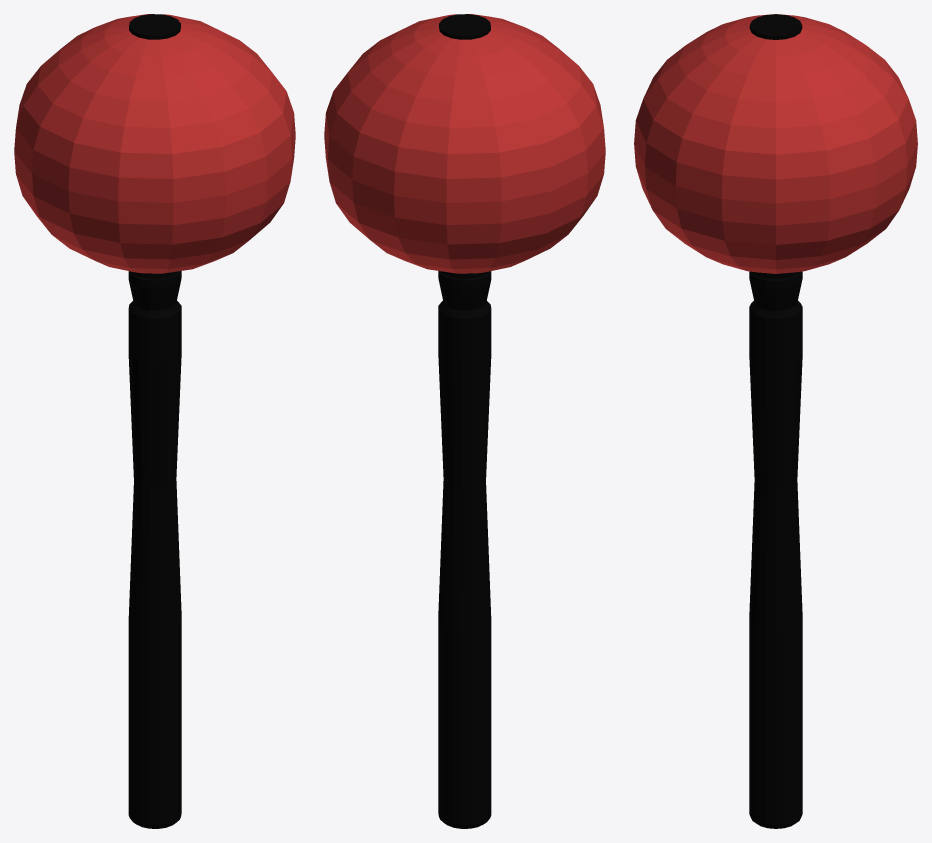
The model's file is pemukul-gong.fbx.
The picture shows the model from 3 angles, left to right: view 1: azimuth 30°, elevation 25°; view 2: azimuth 150°, elevation 25°; view 3: azimuth 270°, elevation 25°; orthographic projection.
Parts seen in each view (by area): view 1: pemukul-gong, pemukul-gong.001; view 2: pemukul-gong, pemukul-gong.001; view 3: pemukul-gong, pemukul-gong.001.
Boxes of the visible parts, x1,y1,x2,y2 form: pemukul-gong: (14,14,295,273); pemukul-gong.001: (128,14,181,828); pemukul-gong: (324,14,605,273); pemukul-gong.001: (438,14,491,828); pemukul-gong: (634,14,917,273); pemukul-gong.001: (749,14,802,828).
Size of the model in its own units: 10.58 by 32.68 by 10.58.
